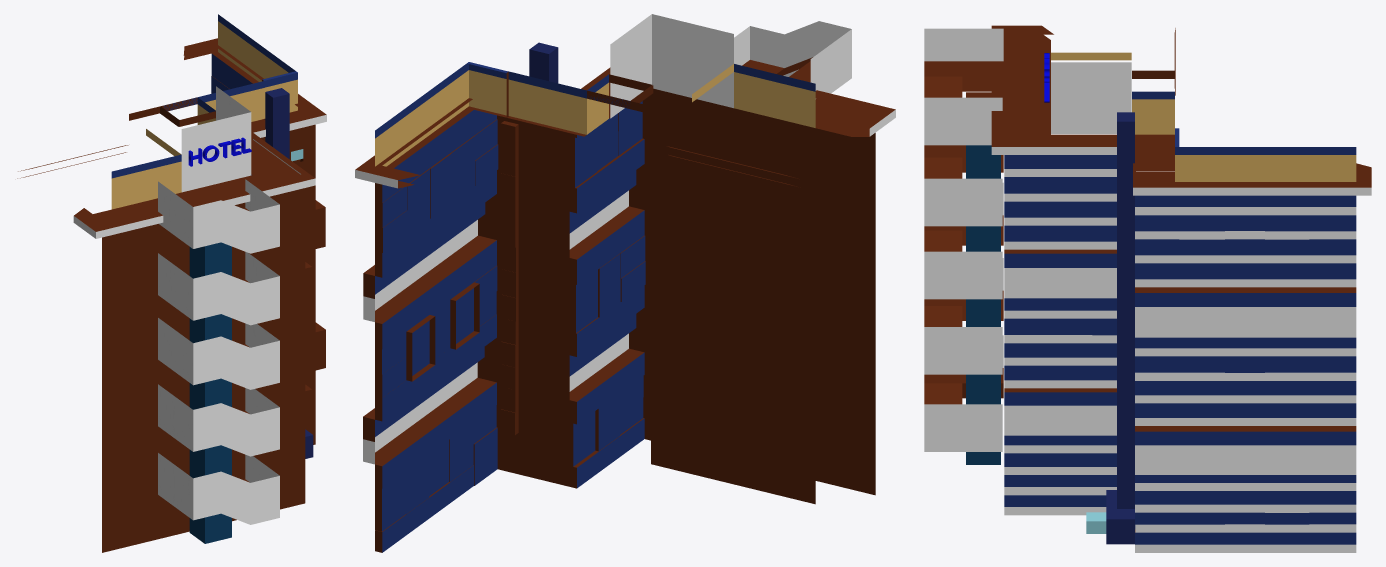
The model's file is ITC.fbx.
The picture shows the model from 3 angles, left to right: view 1: azimuth 30°, elevation 25°; view 2: azimuth 150°, elevation 25°; view 3: azimuth 270°, elevation 25°; orthographic projection. The views are drawn at different scales.
Parts seen in each view (by area): view 1: Cube, Text.001; view 2: Cube; view 3: Cube.
Part boxes in pixels (bbox=[...]): Cube: bbox=[17, 14, 326, 552]; Text.001: bbox=[188, 137, 251, 166]; Cube: bbox=[355, 14, 895, 552]; Cube: bbox=[924, 25, 1371, 552].
Size of the model in its own units: 33182 by 41442 by 38680.
